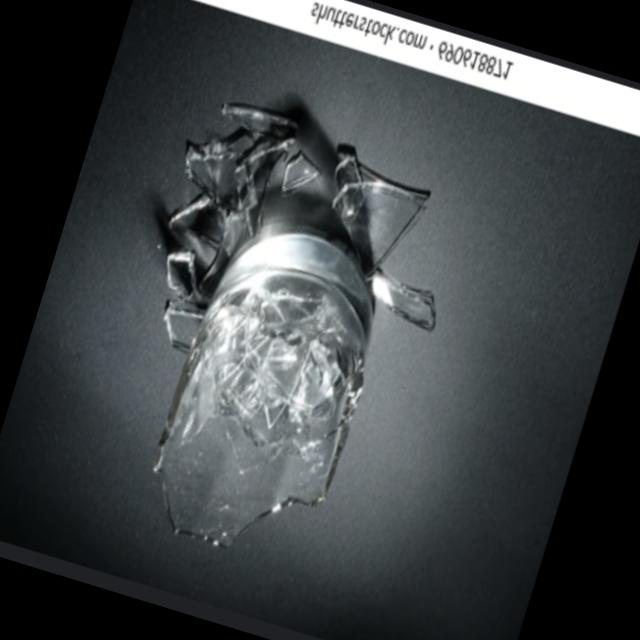PecahanKaca: (70, 86, 480, 594), (130, 202, 404, 579)
